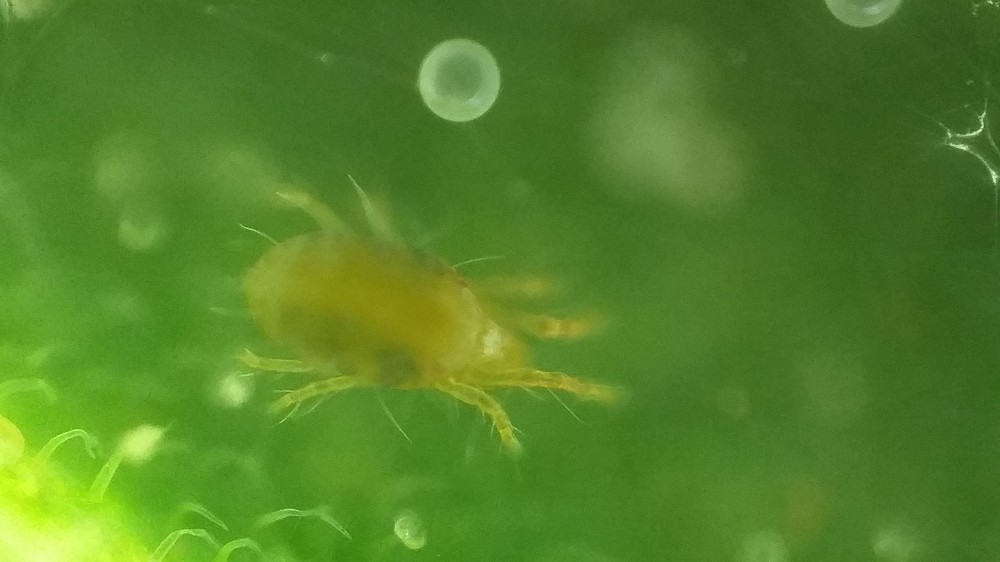Aracnido Rojo: (214, 175, 663, 486)
